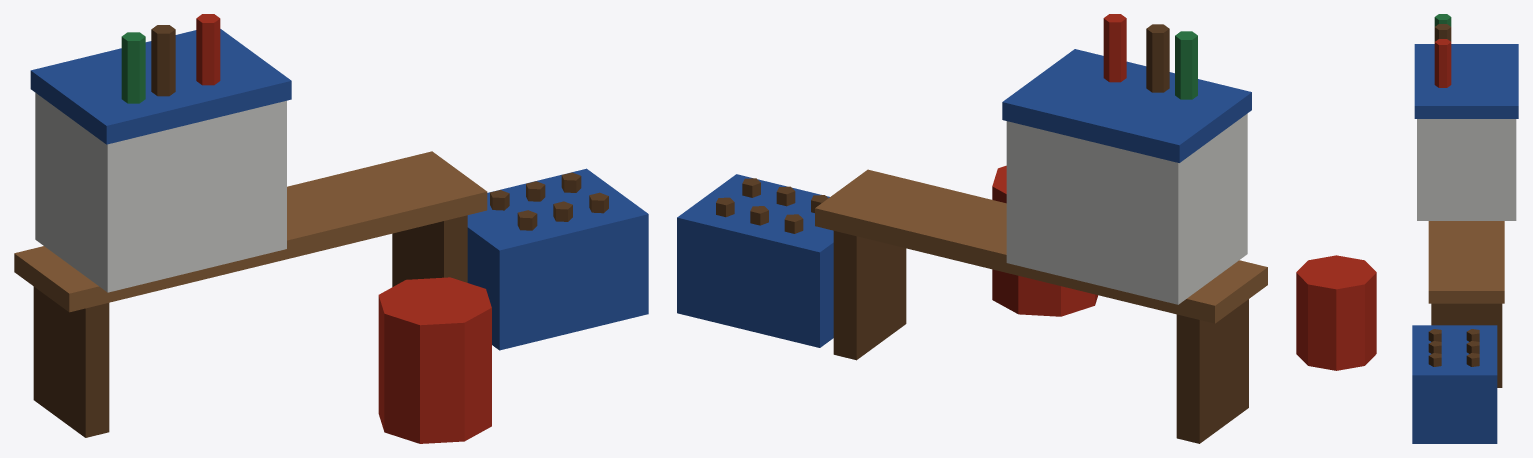
The model's file is prop_cooler-stand.6c15f3789649.glb.
3 views of the same model, side by side, from view 1: azimuth 30°, elevation 25°; view 2: azimuth 150°, elevation 25°; view 3: azimuth 270°, elevation 25° (orthographic). The views are drawn at different scales.
Parts seen in each view (by area): view 1: body; view 2: body; view 3: body.
Part boxes in pixels (bbox=[...]): body: bbox=[14, 14, 648, 443]; body: bbox=[677, 14, 1267, 443]; body: bbox=[1296, 14, 1518, 443].
Bounding box in the file's own units: 1.9 × 1.22 × 0.94.
